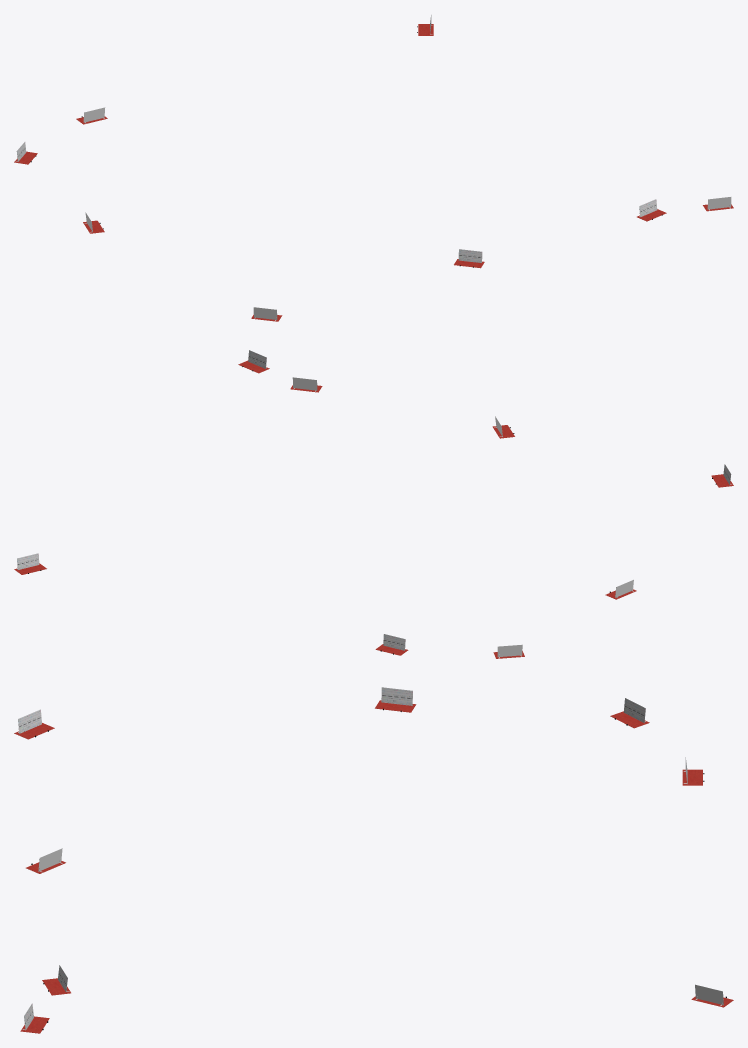
Rendered from TMZ_CompanyPoster.fbx.
The picture shows the model from 3 angles, top to bottom: view 1: azimuth 30°, elevation 25°; view 2: azimuth 150°, elevation 25°; view 3: azimuth 270°, elevation 25°; orthographic projection. The views are drawn at different scales.
Parts seen in each view (by area): view 1: TMZ_CompanyPoster; view 2: TMZ_CompanyPoster; view 3: TMZ_CompanyPoster.
Part boxes in pixels (bbox=[...]): TMZ_CompanyPoster: bbox=[14, 15, 733, 321]; TMZ_CompanyPoster: bbox=[14, 350, 733, 658]; TMZ_CompanyPoster: bbox=[14, 687, 733, 1033].
Bounding box in the file's own units: 10352 × 211 × 9446.
Materials: 3 (2 with a texture image).
